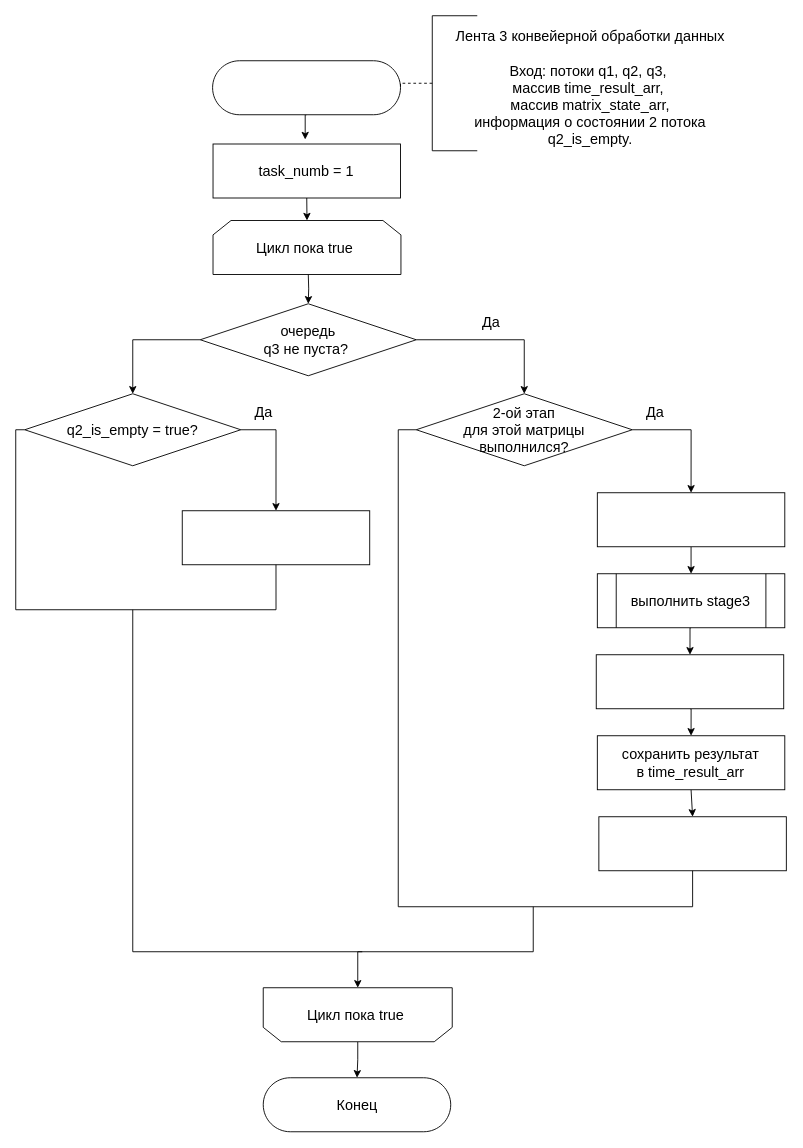
Image size: 803x1148. Some labels were removed from this diagram. The shapes that lost their labels are listed below. From the top down, each one's centre as x and y in pixels, then its label:
At (306,87): "Начало".
At (275,537): "выйти из цикла".
At (690,519): "замерить текущее время (time_start)".
At (689,681): "замерить текущее время (time_end)".
At (692,843): "task_numb += 1".
